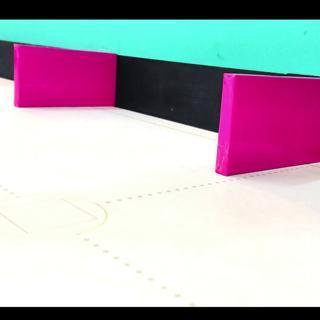xparking: (230, 78, 318, 184), (18, 55, 112, 112)
